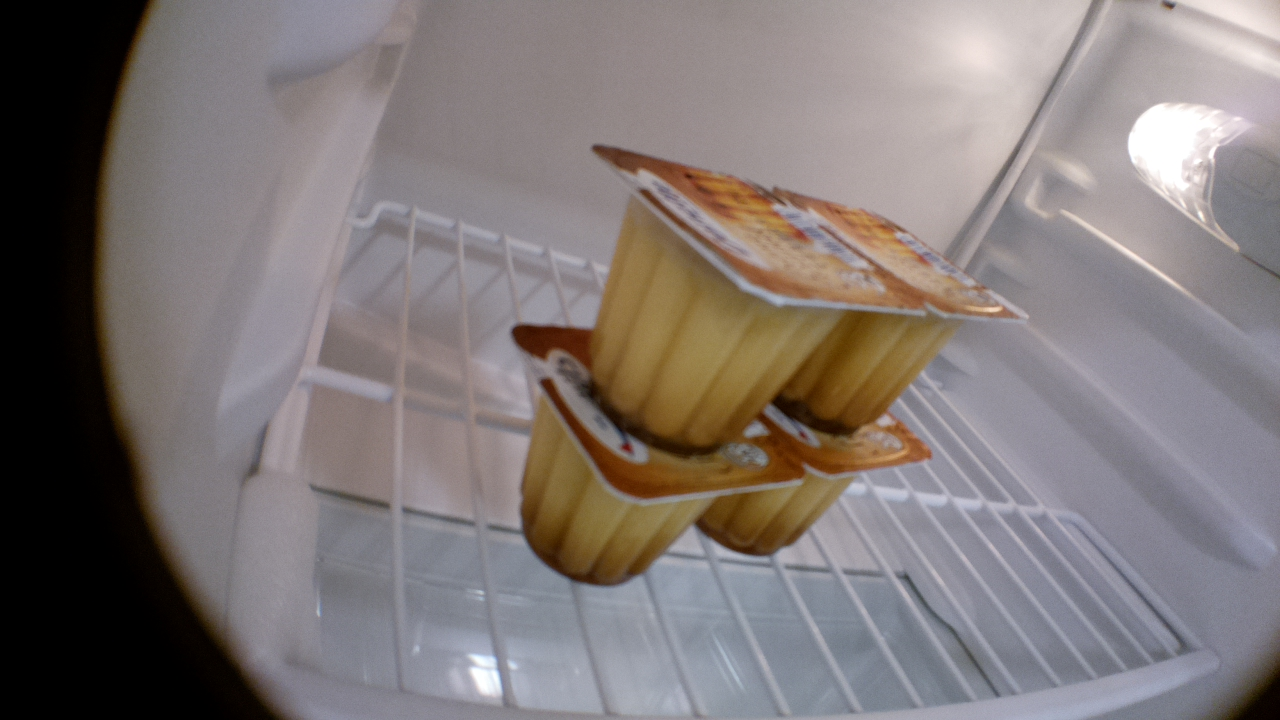caramel: (587, 141, 924, 453), (508, 323, 811, 586), (772, 184, 1027, 436), (691, 421, 935, 558)
